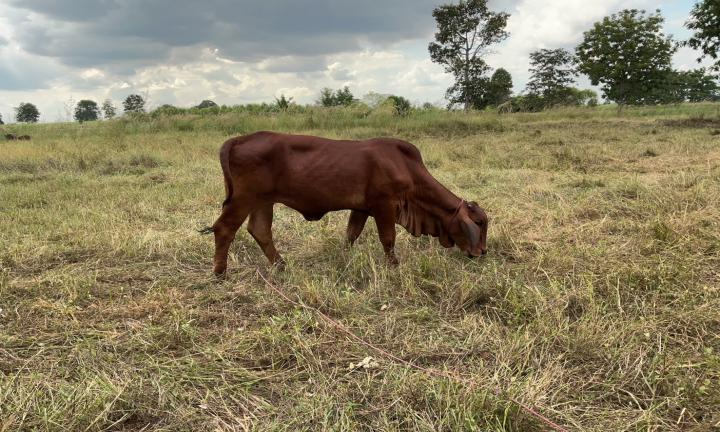Brahman: (204, 131, 487, 273)
